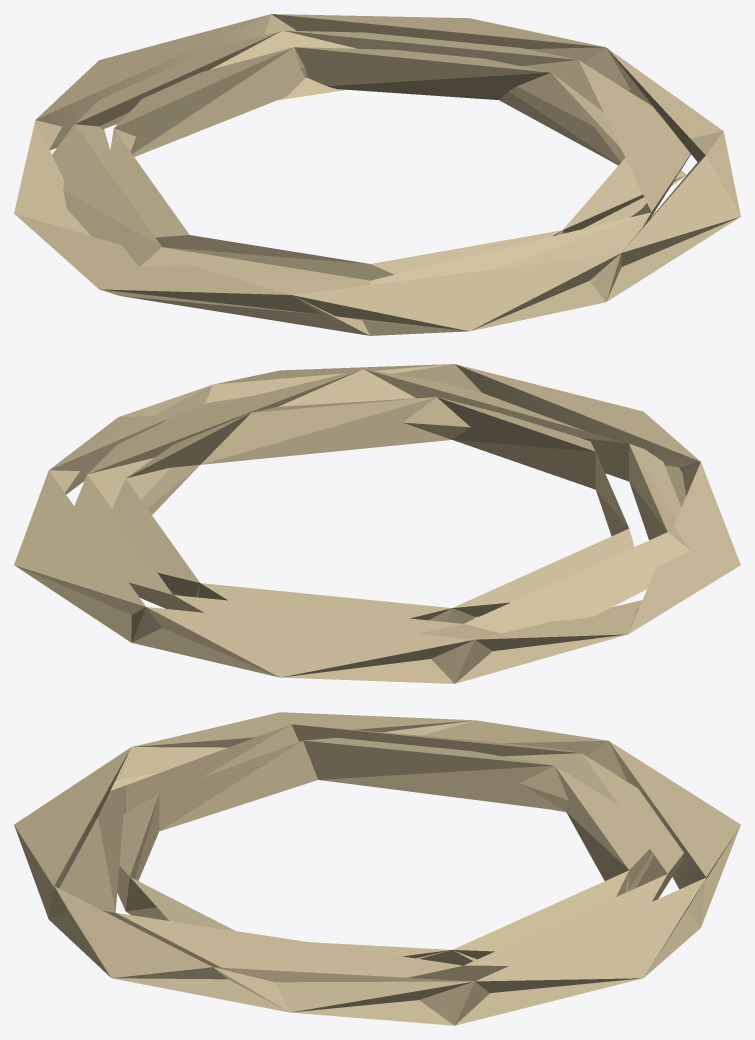
Rendered from beach.rope.lod1.glb.
The picture shows the model from 3 angles, top to bottom: view 1: azimuth 30°, elevation 25°; view 2: azimuth 150°, elevation 25°; view 3: azimuth 270°, elevation 25°; orthographic projection.
Visible parts, largest first — view 1: Coil.002, Coil, Coil.001; view 2: Coil.002, Coil, Coil.001; view 3: Coil.002, Coil, Coil.001.
Part boxes in pixels (x1,y1,x2,y2): Coil.002: (14,14,740,335); Coil: (107,47,686,280); Coil.001: (52,30,690,294); Coil.002: (14,364,740,683); Coil: (112,397,634,623); Coil.001: (74,369,690,639); Coil.002: (14,712,740,1025); Coil: (117,737,653,965); Coil.001: (59,724,683,981).
Size of the model in its own units: 0.648 by 0.0475 by 0.6606.
